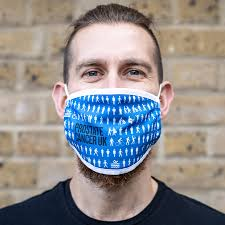with-mask: (57, 9, 176, 189)
